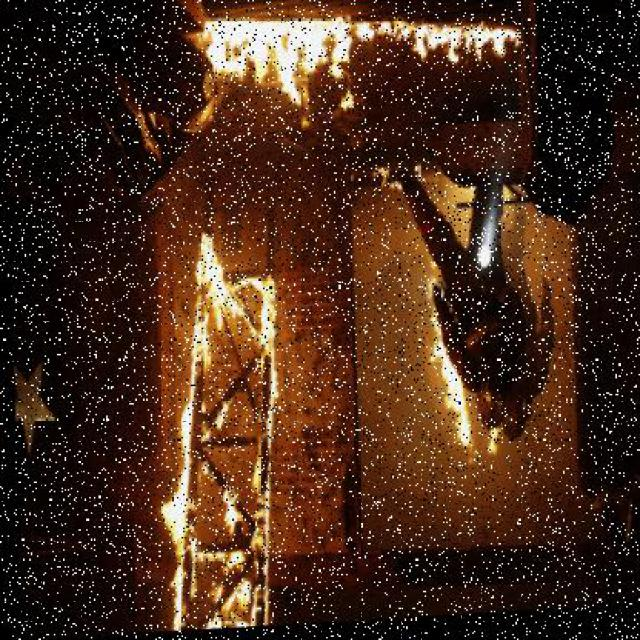fire: (207, 8, 527, 100)
